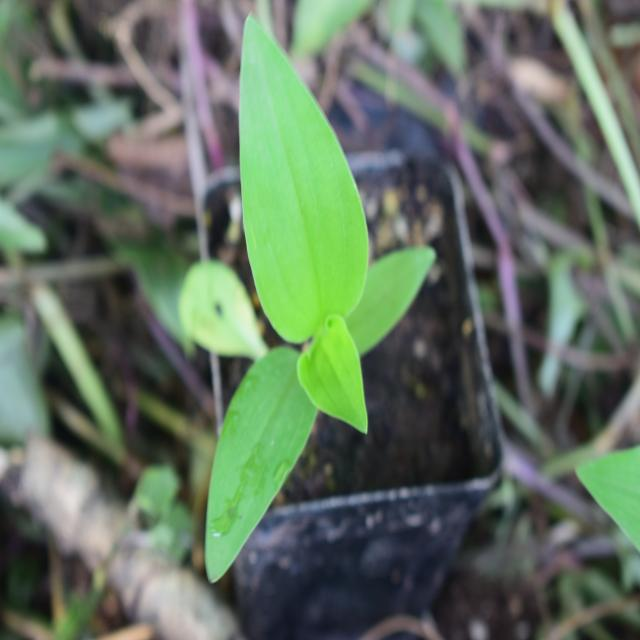Common Dayflower: (202, 12, 417, 556)
